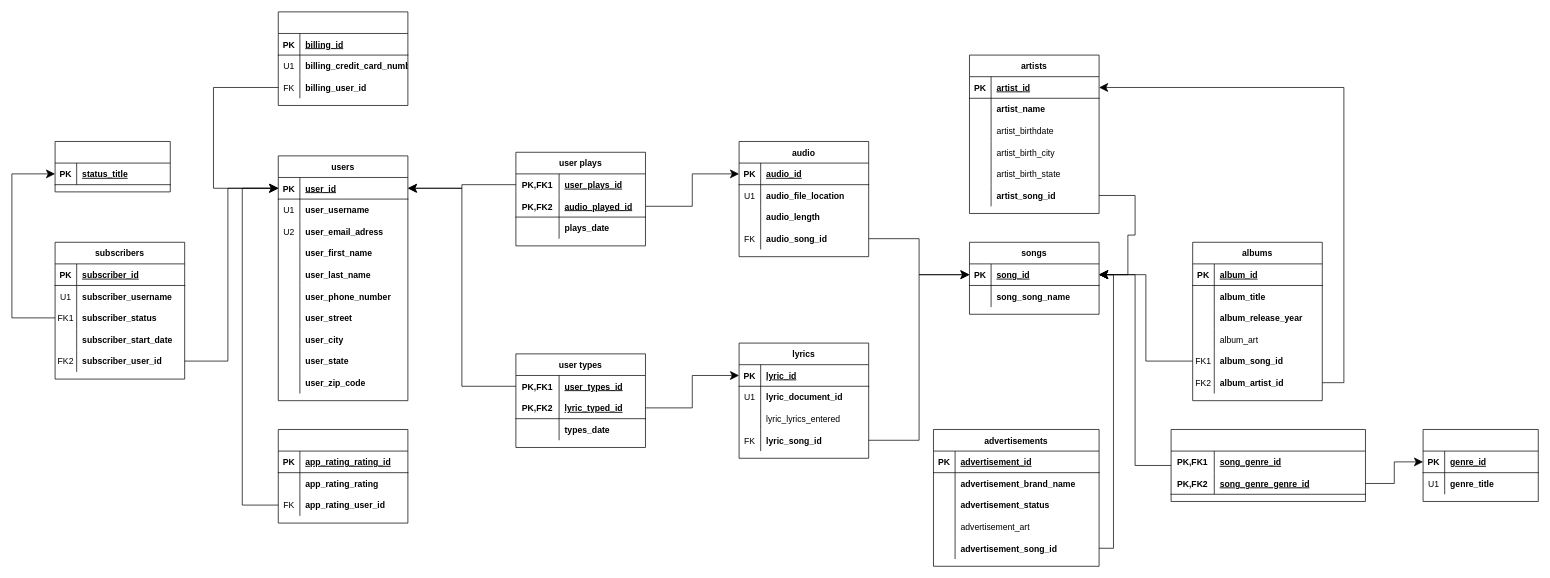
Image size: 1550x578. Some labels were removed from this diagram. Here are the shapes that lost their labels. From the top down, the box of each, then its label:
(278, 11, 408, 105): billings
(54, 141, 170, 192): status_lookup
(278, 429, 408, 523): app_ratings
(1170, 429, 1365, 501): song_genre_lookup
(1422, 429, 1538, 501): genres
